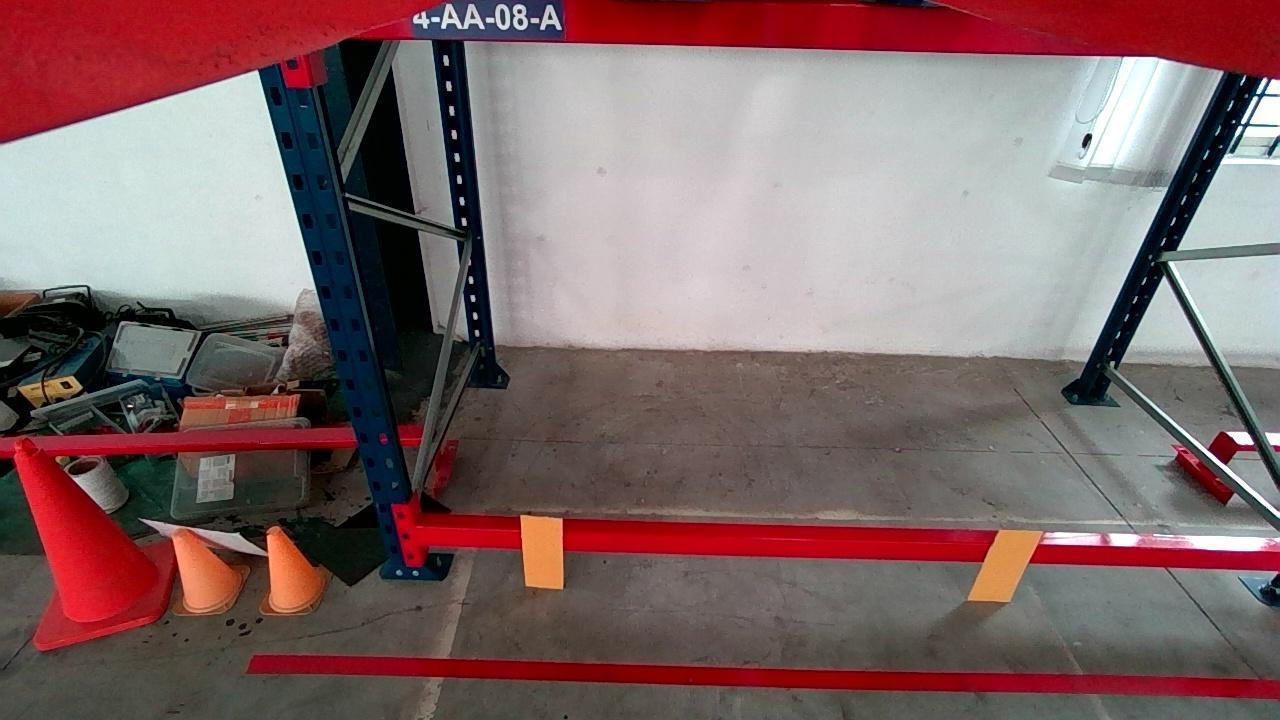h_rack: (354, 2, 1145, 58), (415, 525, 1280, 571)
orange_strip: (967, 530, 1040, 602), (518, 516, 561, 592)
red_line: (246, 656, 1280, 695)
